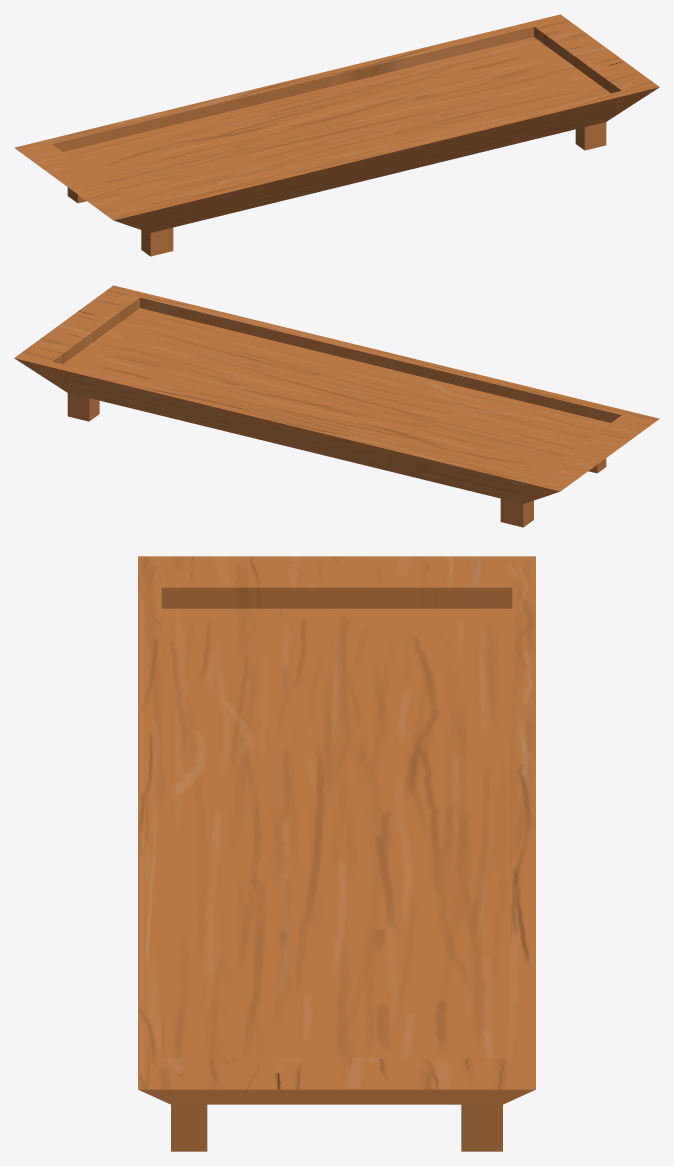
Rendered from MesaJardin.fbx.
The picture shows the model from 3 angles, top to bottom: view 1: azimuth 30°, elevation 25°; view 2: azimuth 150°, elevation 25°; view 3: azimuth 270°, elevation 25°; orthographic projection. The views are drawn at different scales.
Parts seen in each view (by area): view 1: Cube; view 2: Cube; view 3: Cube.
Part boxes in pixels (x1,y1,x2,y2): Cube: (14,14,659,256); Cube: (14,285,659,527); Cube: (138,556,535,1151).
Size of the model in its own units: 817 by 75.95 by 258.
